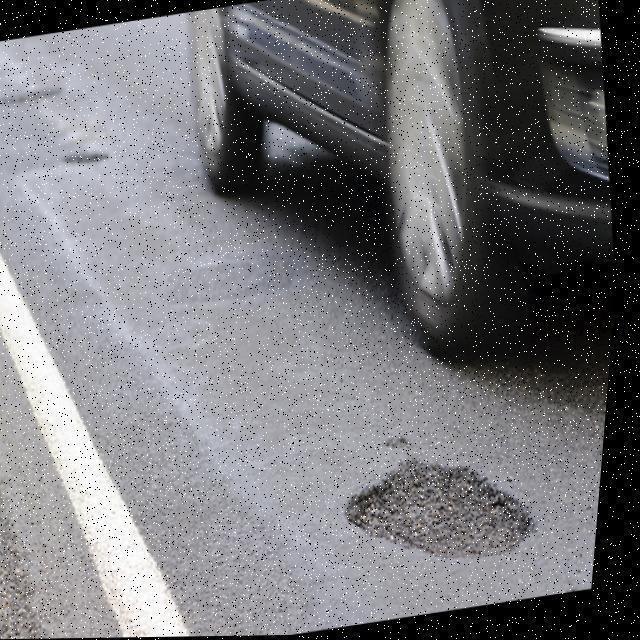Pothole: (342, 455, 542, 563)
